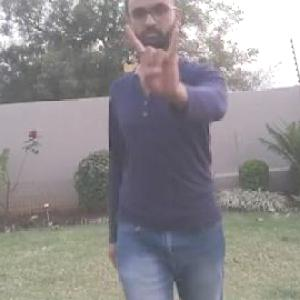takeoff-hand: (121, 23, 188, 107)
